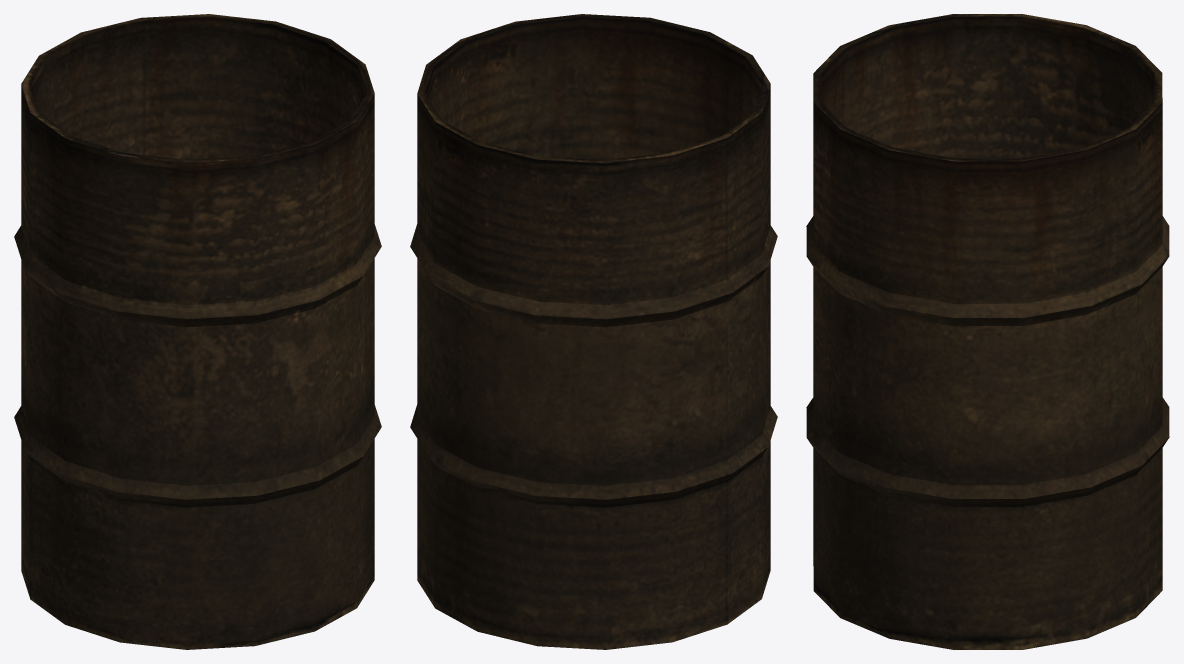
Rendered from metal_barrel_hr_4.obj.
3 renders of one model, left to right at view 1: azimuth 30°, elevation 25°; view 2: azimuth 150°, elevation 25°; view 3: azimuth 270°, elevation 25°, orthographic.
Visible parts, largest first — view 1: metal_barrel_hr_4; view 2: metal_barrel_hr_4; view 3: metal_barrel_hr_4.
Part boxes in pixels (left/top/right/bottom): metal_barrel_hr_4: left=14, top=14, right=381, bottom=649; metal_barrel_hr_4: left=410, top=14, right=777, bottom=649; metal_barrel_hr_4: left=806, top=14, right=1169, bottom=649.
Size of the model in its own units: 0.6735 by 1 by 0.6735.
